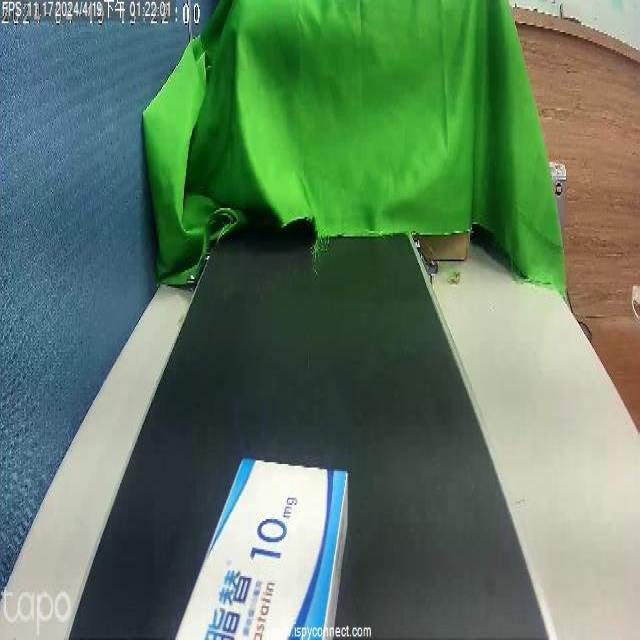box: (200, 447, 354, 634)
